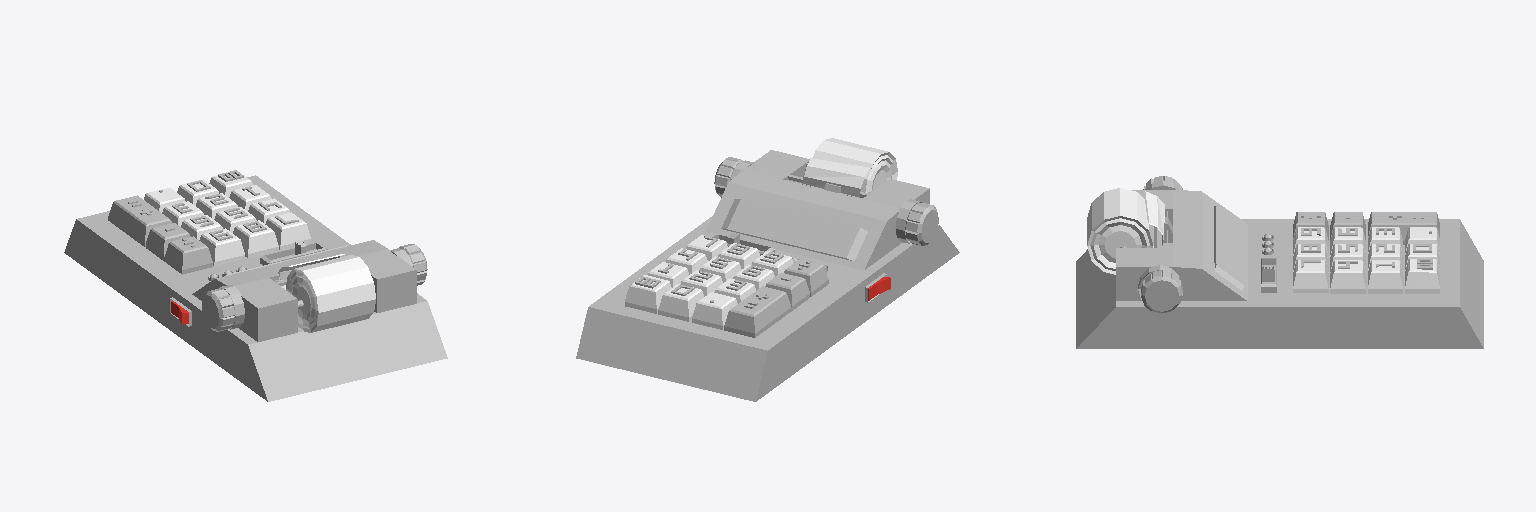
The picture shows the model from 3 angles: view 1: azimuth 30°, elevation 25°; view 2: azimuth 150°, elevation 25°; view 3: azimuth 270°, elevation 25°; orthographic projection.
Visible parts, largest first — view 1: group[number redacted], group[number redacted], group[number redacted], group[number redacted], group[number redacted], group[number redacted], group[number redacted], group[number redacted], group[number redacted], group[number redacted], group[number redacted], group[number redacted] (+6 smaller); view 2: group[number redacted], group[number redacted], group[number redacted], group[number redacted], group[number redacted], group[number redacted], group[number redacted], group[number redacted], group[number redacted], group[number redacted], group[number redacted], group[number redacted] (+8 smaller); view 3: group[number redacted], group[number redacted], group[number redacted], group[number redacted], group[number redacted], group[number redacted], group[number redacted], group[number redacted], group[number redacted], group[number redacted], group[number redacted], group[number redacted] (+5 smaller).
Part boxes in pixels (bbox=[...]): group[number redacted]: bbox=[64, 175, 447, 401]; group[number redacted]: bbox=[192, 240, 416, 341]; group[number redacted]: bbox=[286, 255, 375, 332]; group[number redacted]: bbox=[108, 195, 171, 246]; group[number redacted]: bbox=[164, 236, 212, 274]; group[number redacted]: bbox=[233, 220, 278, 257]; group[number redacted]: bbox=[202, 288, 235, 331]; group[number redacted]: bbox=[199, 228, 244, 266]; group[number redacted]: bbox=[265, 212, 310, 250]; group[number redacted]: bbox=[146, 223, 190, 260]; group[number redacted]: bbox=[209, 170, 252, 197]; group[number redacted]: bbox=[229, 185, 271, 210]; group[number redacted]: bbox=[576, 216, 959, 401]; group[number redacted]: bbox=[706, 150, 929, 270]; group[number redacted]: bbox=[721, 199, 867, 260]; group[number redacted]: bbox=[813, 138, 897, 197]; group[number redacted]: bbox=[724, 286, 791, 337]; group[number redacted]: bbox=[802, 158, 869, 197]; group[number redacted]: bbox=[625, 275, 671, 313]; group[number redacted]: bbox=[905, 203, 938, 245]; group[number redacted]: bbox=[692, 292, 737, 329]; group[number redacted]: bbox=[658, 284, 703, 321]; group[number redacted]: bbox=[765, 273, 809, 310]; group[number redacted]: bbox=[784, 259, 828, 296]; group[number redacted]: bbox=[1076, 219, 1483, 348]; group[number redacted]: bbox=[1116, 190, 1247, 300]; group[number redacted]: bbox=[1087, 188, 1153, 274]; group[number redacted]: bbox=[1214, 206, 1243, 290]; group[number redacted]: bbox=[1141, 270, 1182, 312]; group[number redacted]: bbox=[1405, 259, 1439, 293]; group[number redacted]: bbox=[1330, 260, 1365, 293]; group[number redacted]: bbox=[1368, 260, 1402, 293]; group[number redacted]: bbox=[1293, 260, 1328, 292]; group[number redacted]: bbox=[1368, 212, 1439, 244]; group[number redacted]: bbox=[1144, 191, 1164, 247]; group[number redacted]: bbox=[1293, 227, 1328, 256].
Bounding box in the file's own units: 1.48 × 0.705 × 2.52.